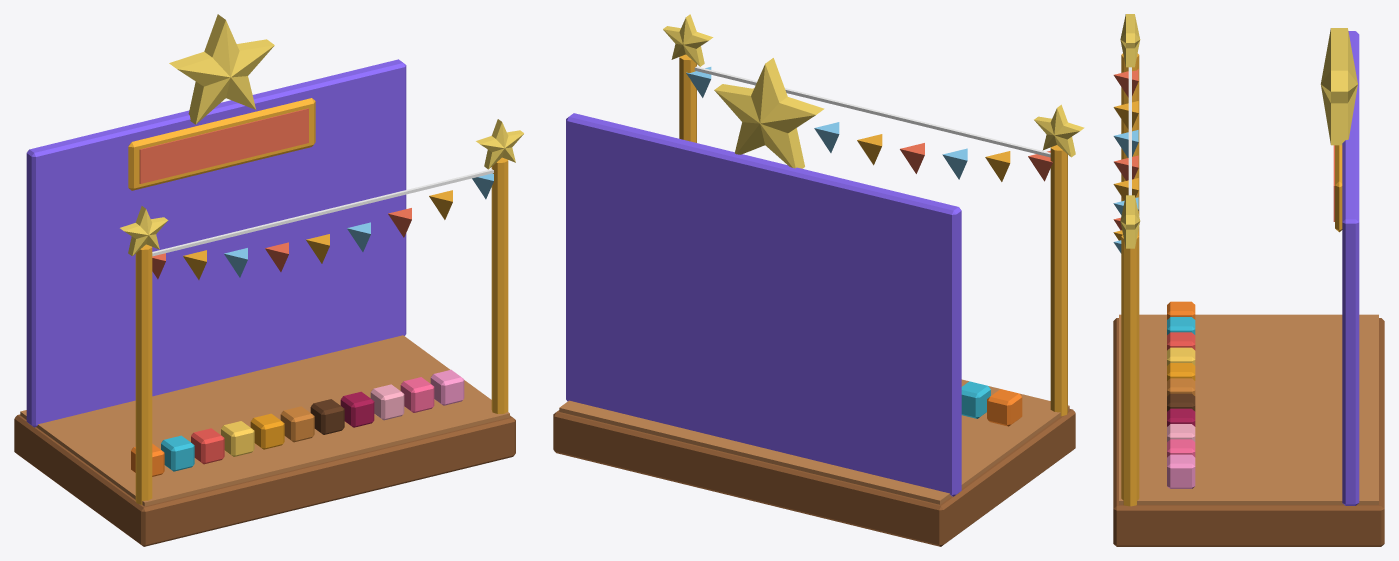
Rendered from station_grand_fair.glb.
3 renders of one model, left to right at view 1: azimuth 30°, elevation 25°; view 2: azimuth 150°, elevation 25°; view 3: azimuth 270°, elevation 25°, orthographic. The views are drawn at different scales.
Visible parts, largest first — view 1: station_grand_fair; view 2: station_grand_fair; view 3: station_grand_fair.
Boxes of the visible parts, x1,y1,x2,y2 form: station_grand_fair: (14, 14, 523, 546); station_grand_fair: (553, 14, 1084, 546); station_grand_fair: (1113, 14, 1384, 546).
Size of the model in its own units: 4.28 by 4.15 by 2.4.
